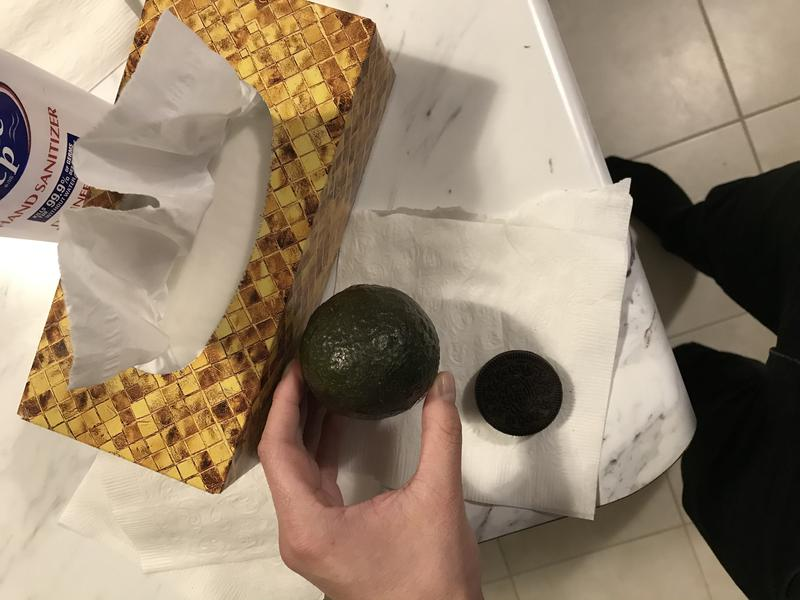avocado: (296, 281, 447, 423)
